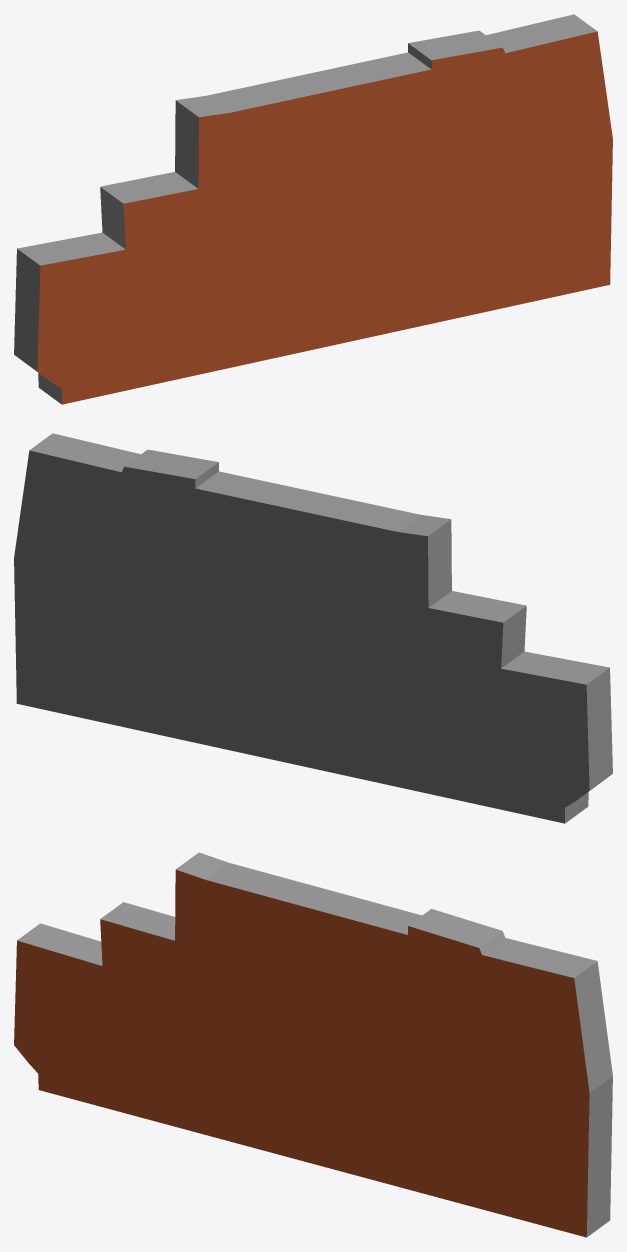
The model's file is construction_4521_assumed_A_Casa_h6m.obj.
The picture shows the model from 3 angles, top to bottom: view 1: azimuth 30°, elevation 25°; view 2: azimuth 150°, elevation 25°; view 3: azimuth 330°, elevation 25°; orthographic projection.
Visible parts, largest first — view 1: construction_4521_assumed_A_Casa; view 2: construction_4521_assumed_A_Casa; view 3: construction_4521_assumed_A_Casa.
Part boxes in pixels (x1,y1,x2,y2): construction_4521_assumed_A_Casa: (14,14,612,404); construction_4521_assumed_A_Casa: (14,433,612,823); construction_4521_assumed_A_Casa: (14,852,612,1237).
Bounding box in the file's own units: 85.23 × 37.93 × 6.
